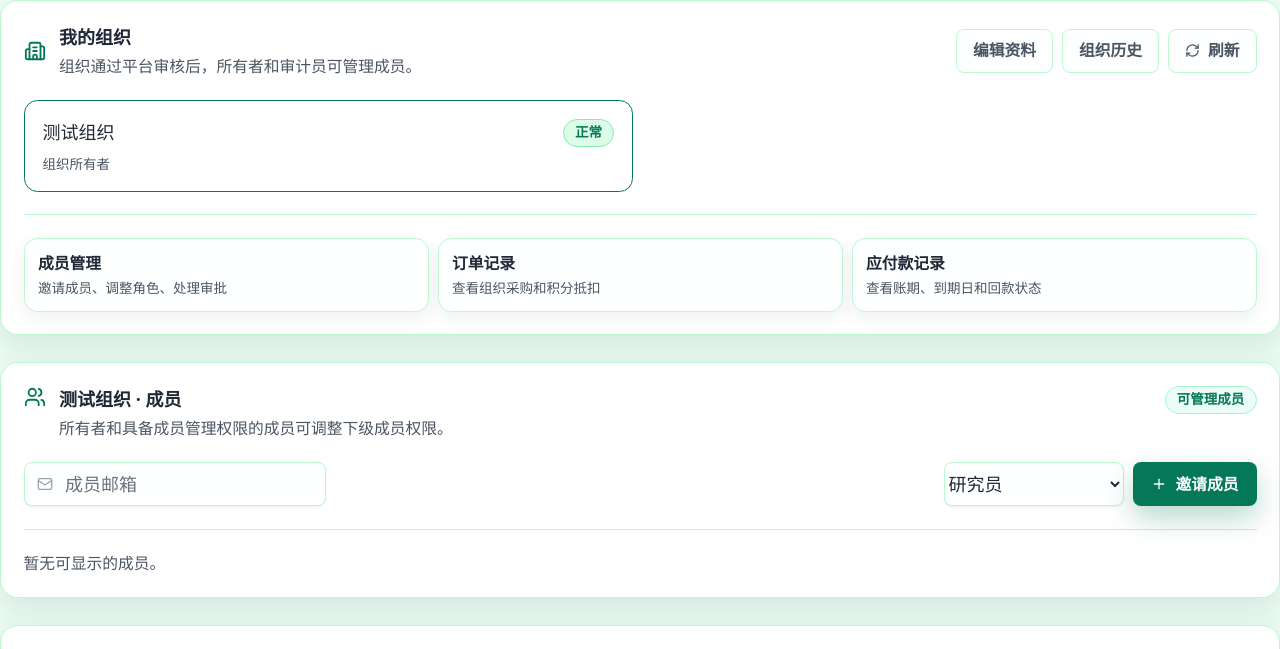
Test: OrganizationsPanel › 操作成功提示在刷新后仍然显示
The width and height of the screenshot is (1280, 649).
Step 1. Type "new@test.com" into the field labelled "成员邮箱" → (175, 484), box [24, 462, 326, 506]
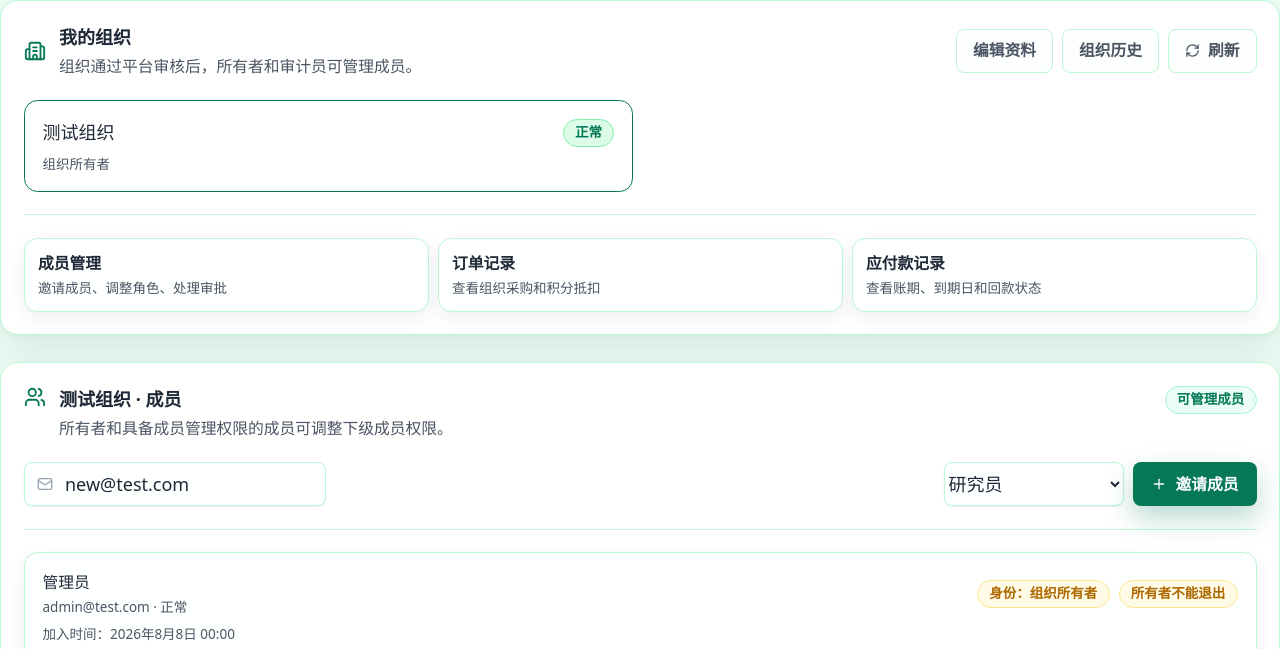
Step 2. Click the button "邀请成员" → (1194, 484), box [1132, 462, 1256, 506]
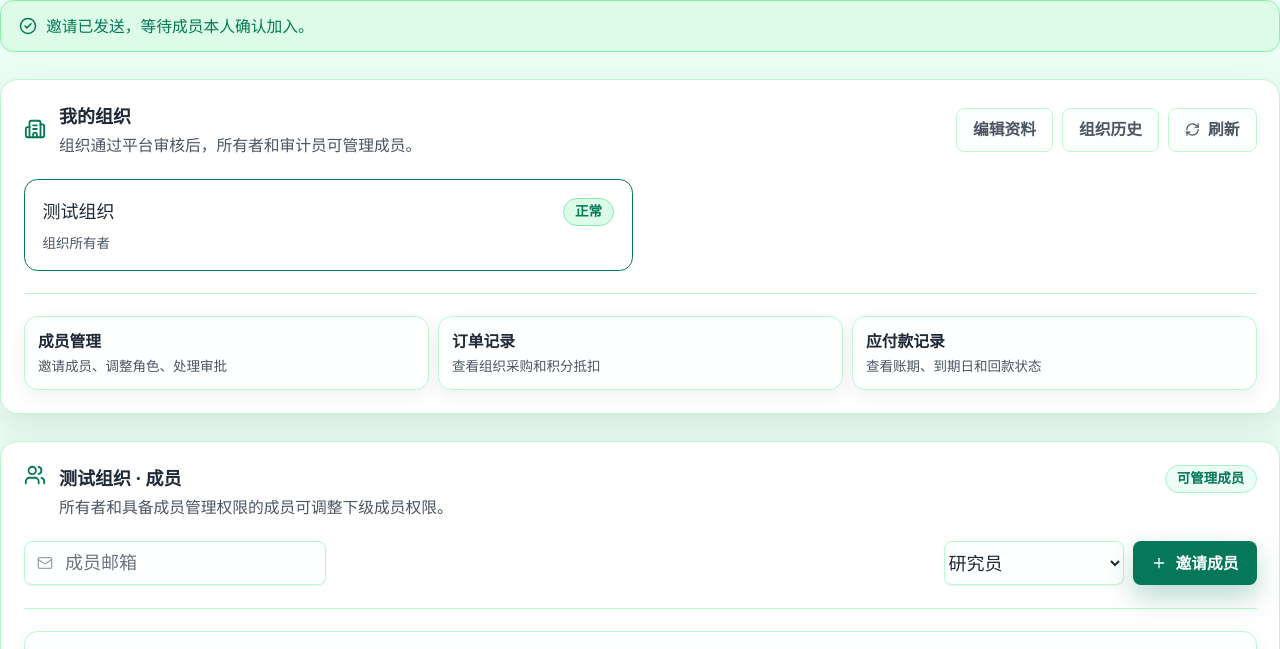
Check: the text "邀请已发送，等待成员本人确认加入。" is shown, box [46, 14, 314, 37]
Check: the message reads "邀请已发送，等待成员本人确认加入。", box [46, 14, 314, 36]
